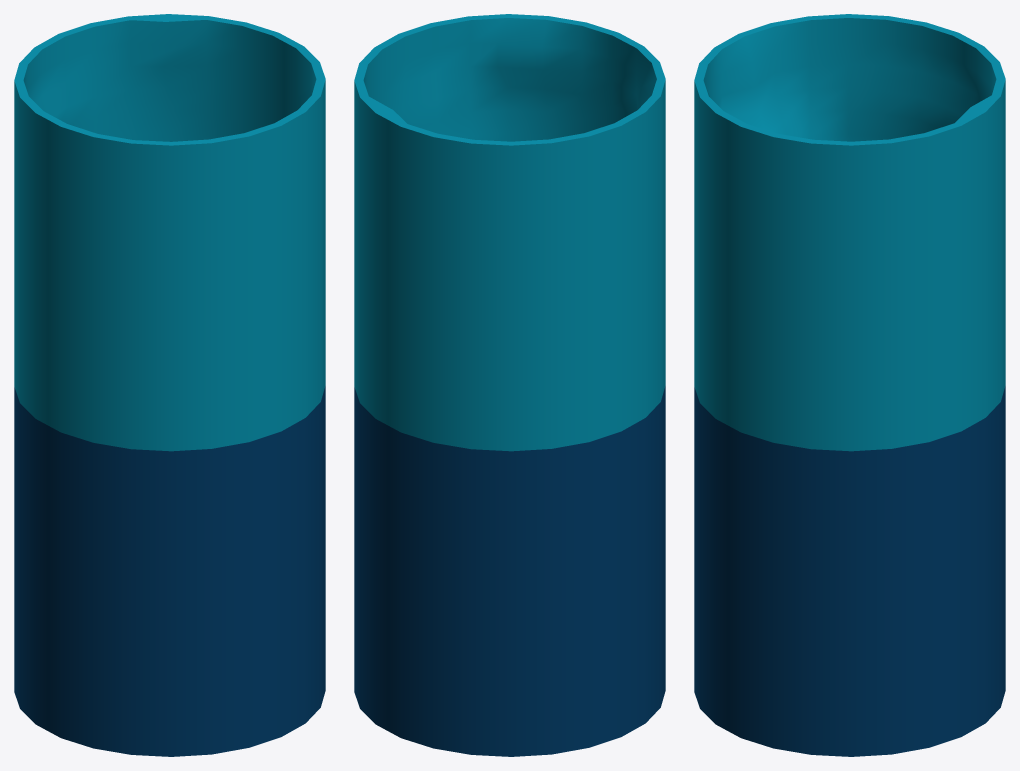
The model's file is diving_sea_01.fbx.
3 renders of one model, left to right at view 1: azimuth 30°, elevation 25°; view 2: azimuth 150°, elevation 25°; view 3: azimuth 270°, elevation 25°, orthographic.
Visible parts, largest first — view 1: obj_sea_01, obj_sea_02; view 2: obj_sea_01, obj_sea_02; view 3: obj_sea_01, obj_sea_02.
Part boxes in pixels (x1,y1,x2,y2): obj_sea_01: [14, 14, 325, 451]; obj_sea_02: [14, 386, 325, 756]; obj_sea_01: [354, 14, 665, 451]; obj_sea_02: [354, 386, 665, 756]; obj_sea_01: [694, 14, 1005, 451]; obj_sea_02: [694, 386, 1005, 756].
Size of the model in its own units: 1847 by 4000 by 1847.
